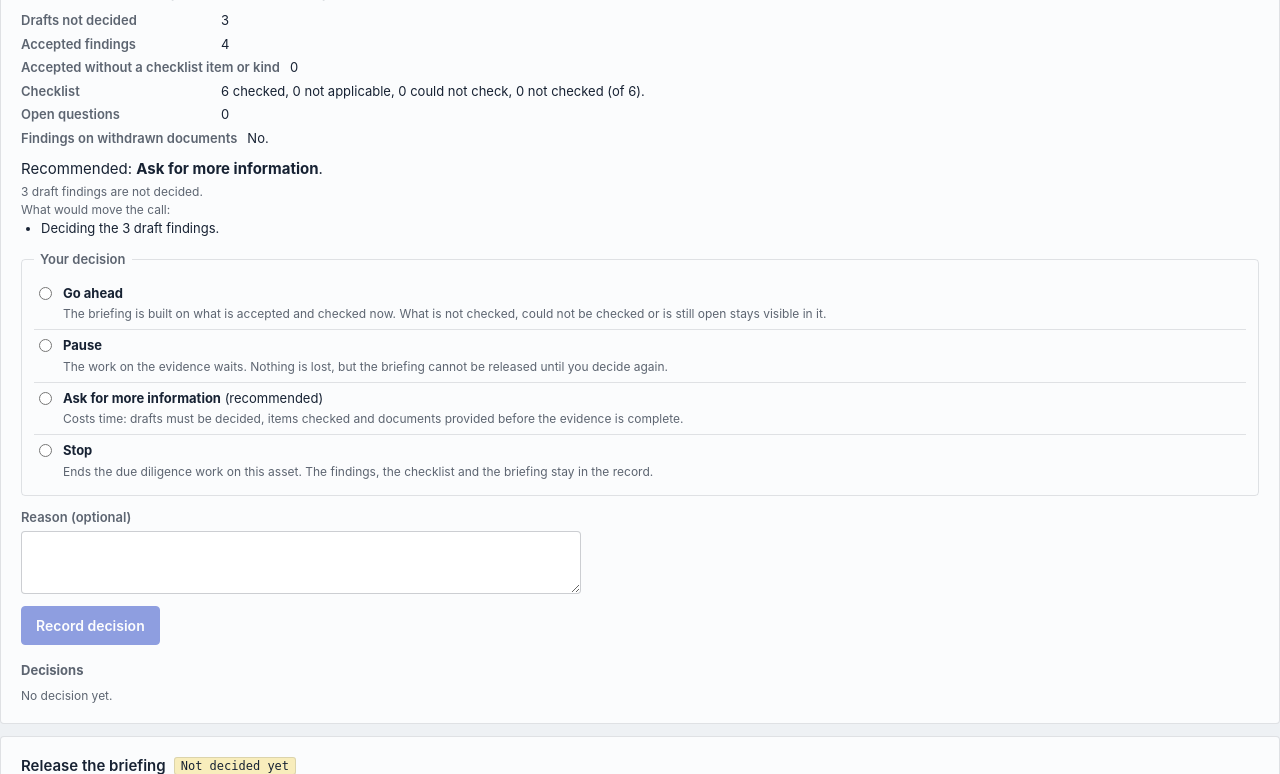
Test case: GatesPanel: deciding › keeps saying the facts changed when they change a second time before the person chooses again
(page scrolled)
Click the radio button labelled "Ask for more information": [46, 398] box [39,392,52,405]
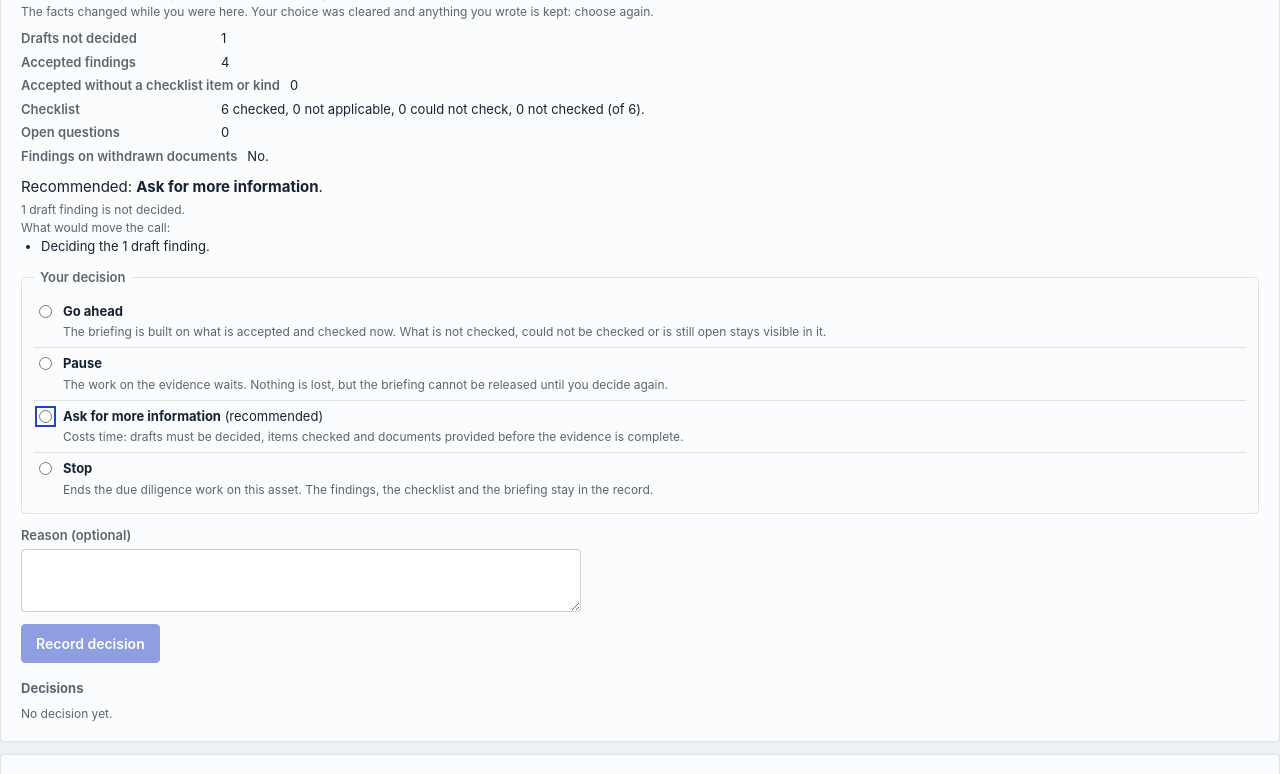
Check: the text "1 draft finding is not decided." is shown, box [21,202,185,217]
Check: the text "The facts changed while you were here" is shown, box [21,4,654,19]
